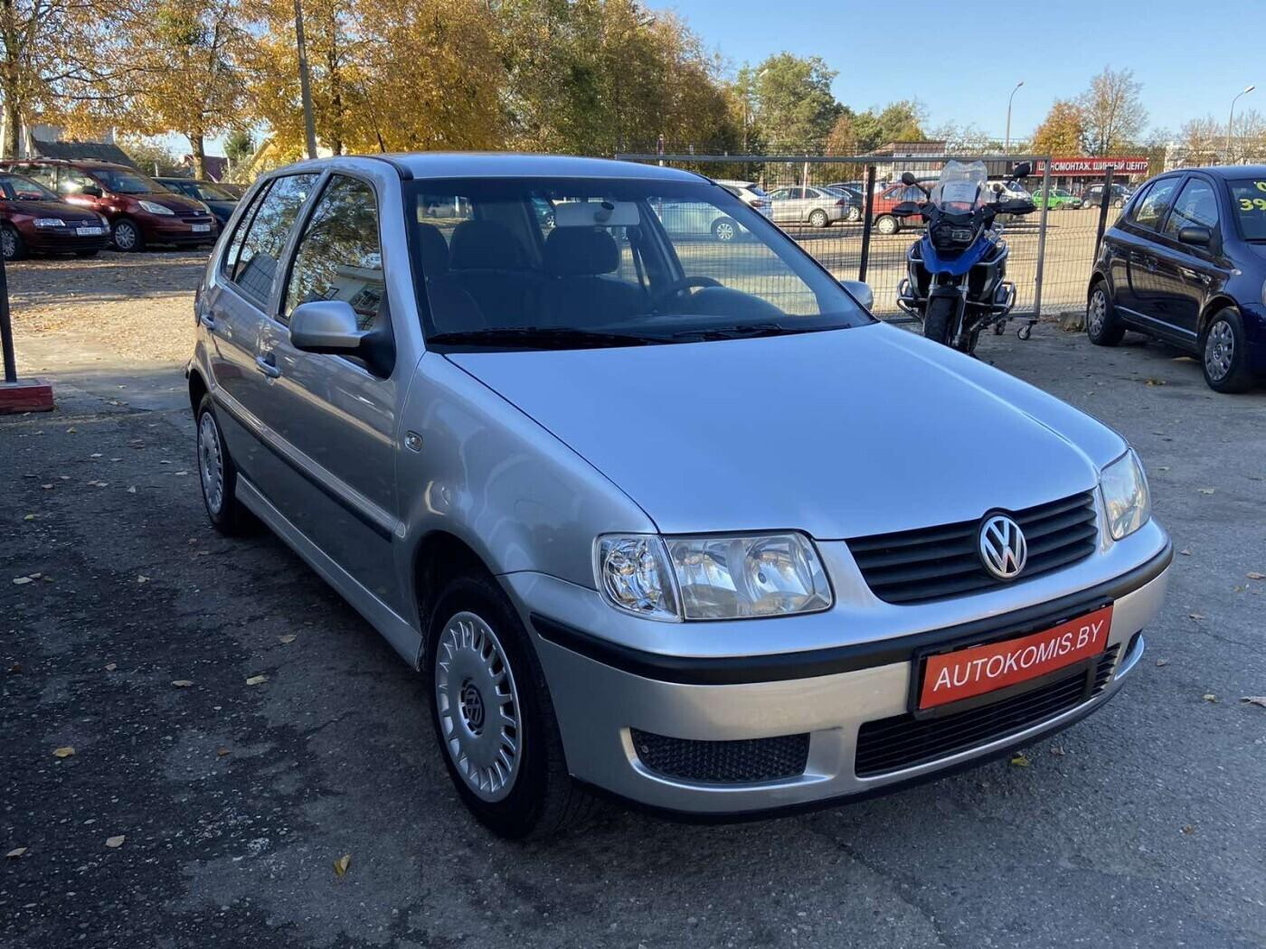Polo_2000-2002: (183, 145, 1190, 857)
